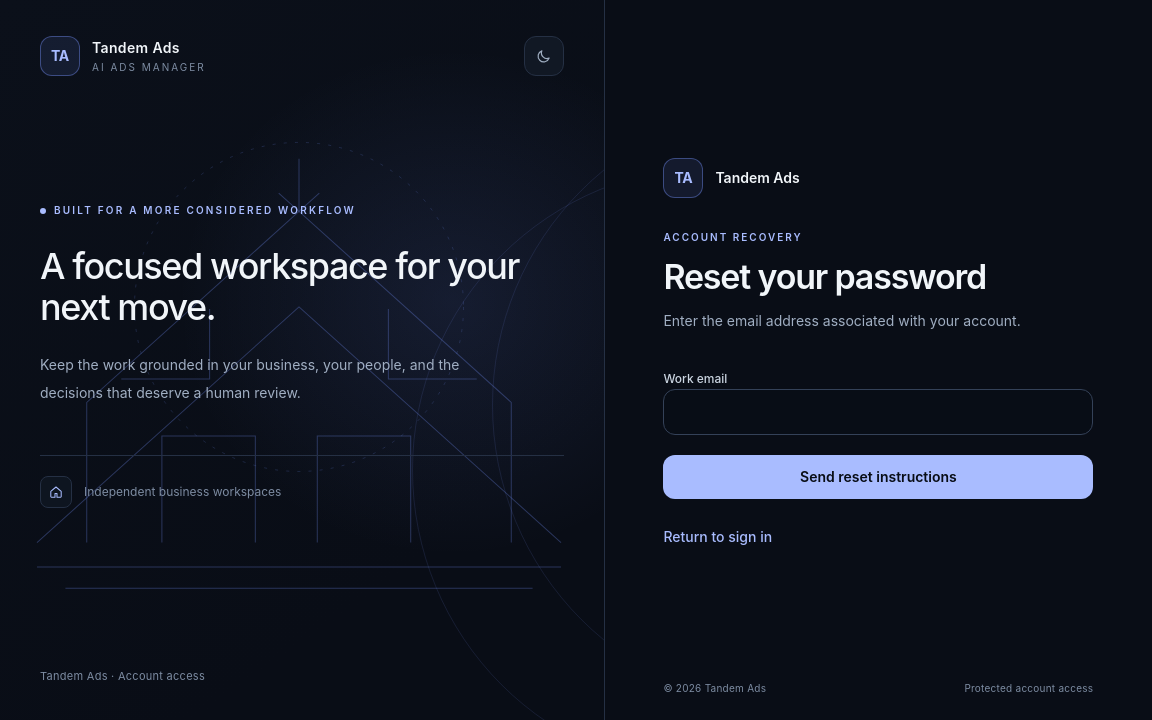
authentication routes and forms › explains when Supabase rate-limits password recovery
Type "person@example.com" into the field labelled "Work email" at (878, 412), box [663,389,1093,435]
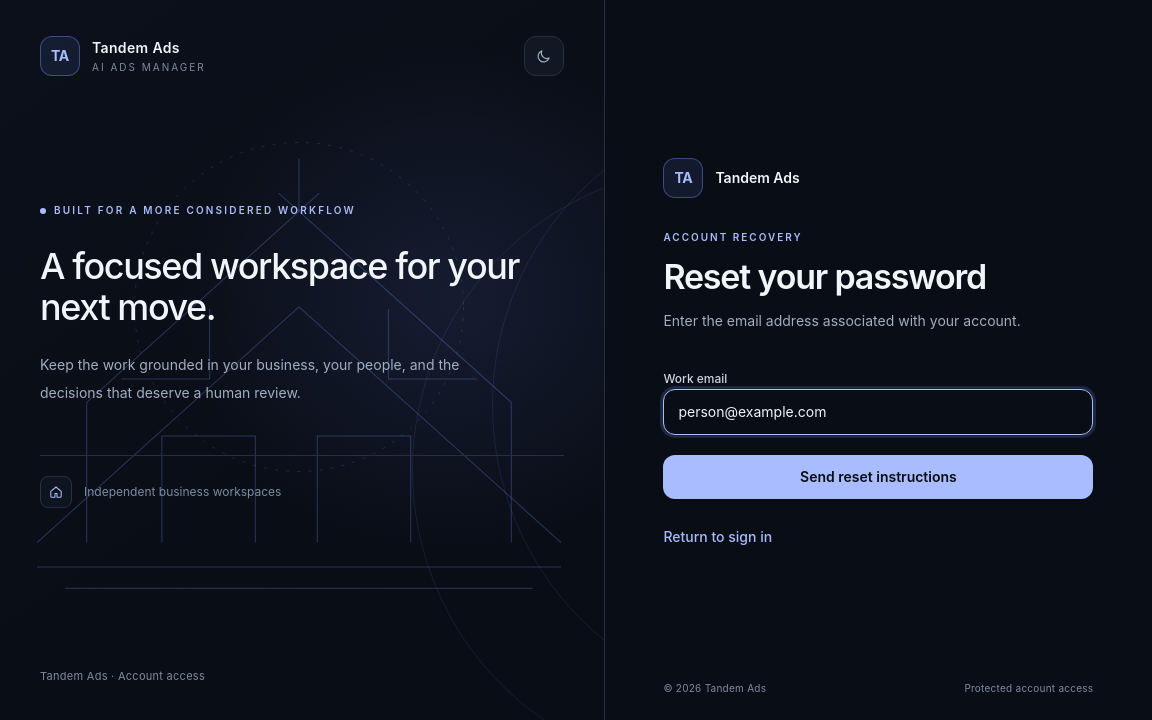
Click the button "Send reset instructions" at (878, 477), box [663,455,1093,499]
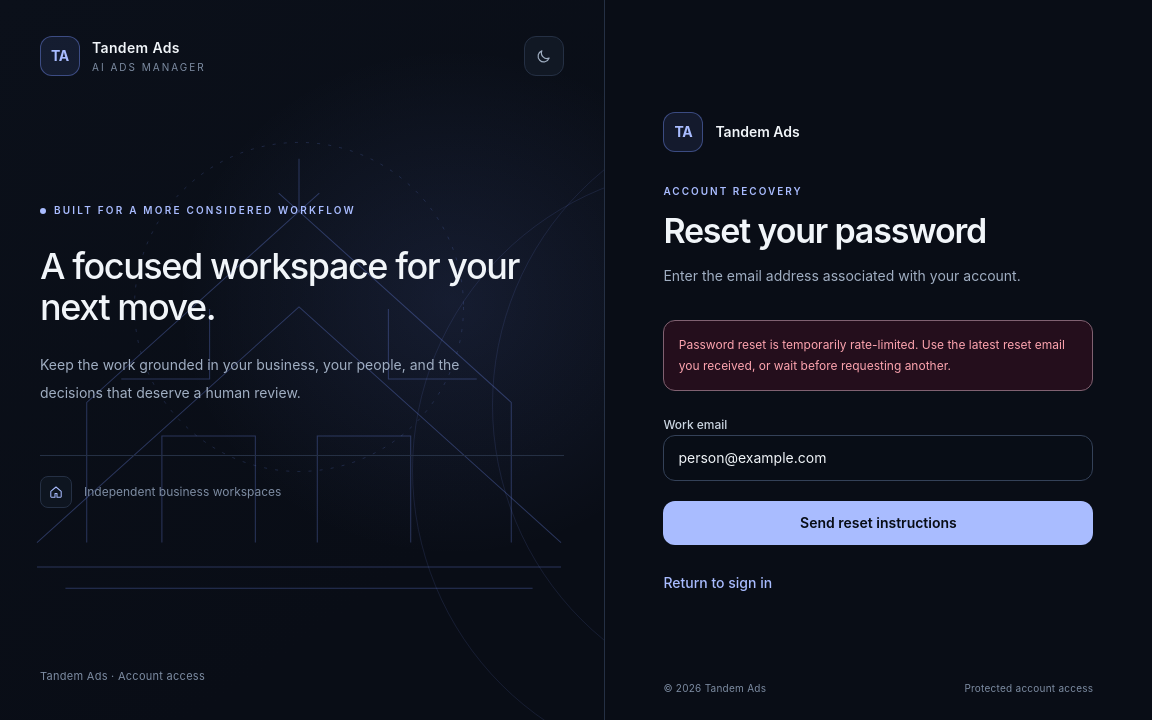
Expected: the text "Password reset is temporarily rate-limited" is shown, [679,337,1065,373]
